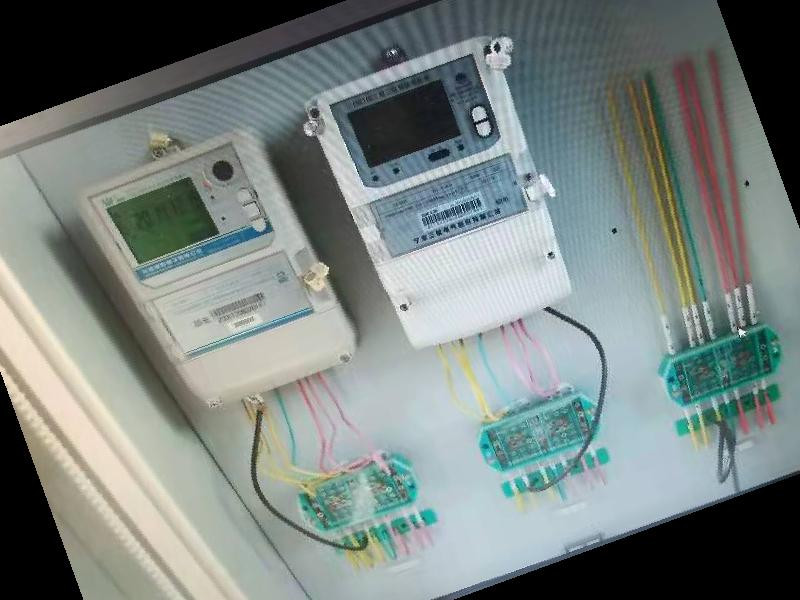digital: (312, 36, 572, 350), (80, 131, 354, 406)
